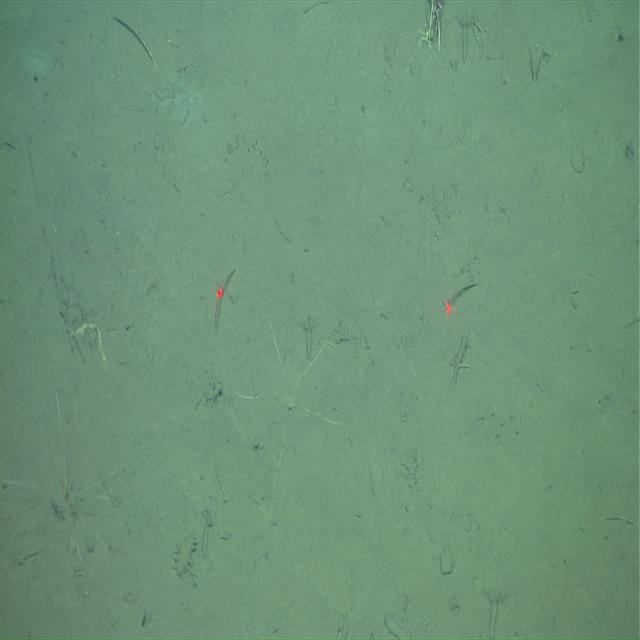Brittle Star: (241, 304, 342, 500)
Not Brittle Star: (22, 427, 106, 576), (170, 527, 197, 584)
